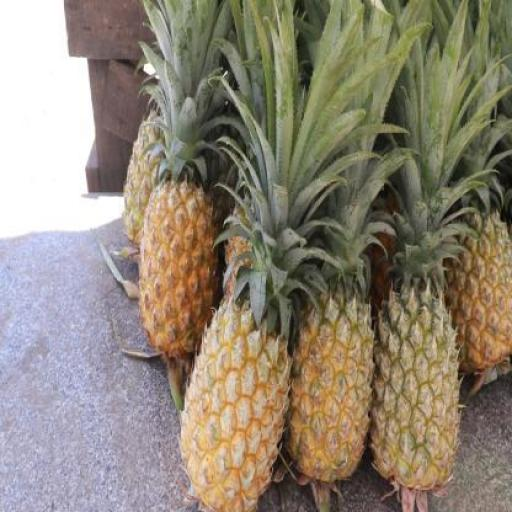------------------------------: (370, 284, 460, 489)
Pineapple - v8 v1: (182, 300, 288, 508), (286, 296, 374, 489), (140, 184, 216, 371), (449, 218, 511, 374)
